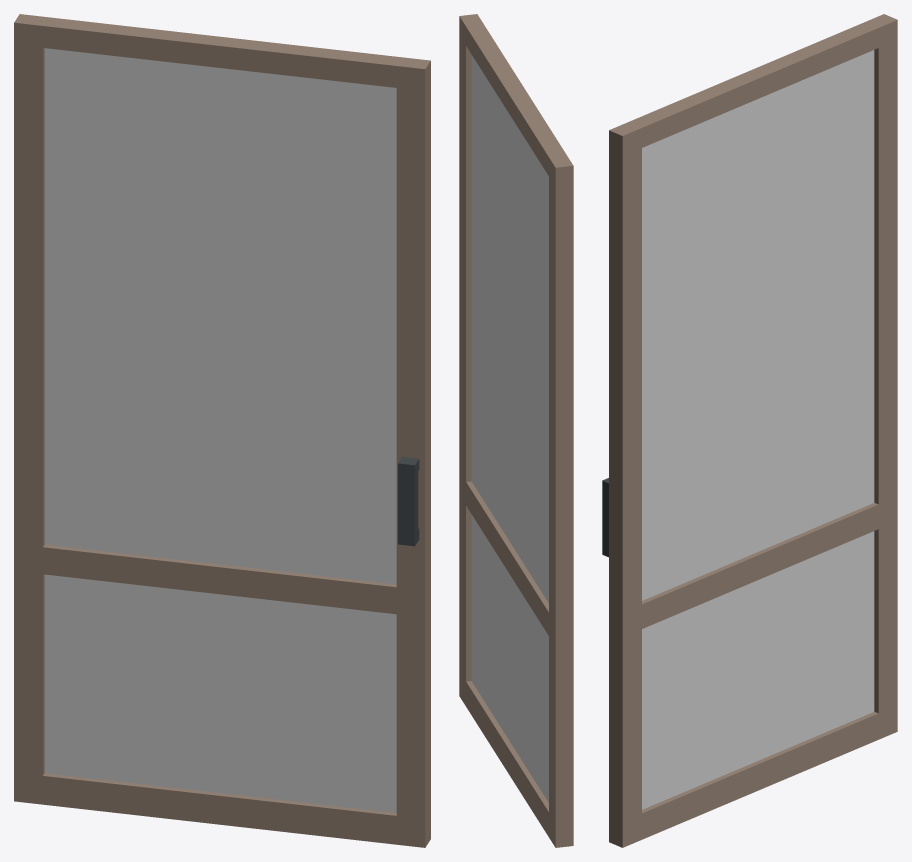
The model's file is SmallHouse_03_Door01.fbx.
The picture shows the model from 3 angles, left to right: view 1: azimuth 30°, elevation 25°; view 2: azimuth 150°, elevation 25°; view 3: azimuth 270°, elevation 25°; orthographic projection. The views are drawn at different scales.
Parts seen in each view (by area): view 1: SmallHouse_03_Door01; view 2: SmallHouse_03_Door01; view 3: SmallHouse_03_Door01.
Boxes of the visible parts, bbox=[...] form: SmallHouse_03_Door01: bbox=[14, 14, 430, 847]; SmallHouse_03_Door01: bbox=[459, 14, 573, 847]; SmallHouse_03_Door01: bbox=[602, 14, 897, 847].
Size of the model in its own units: 74.25 by 202 by 75.98.
